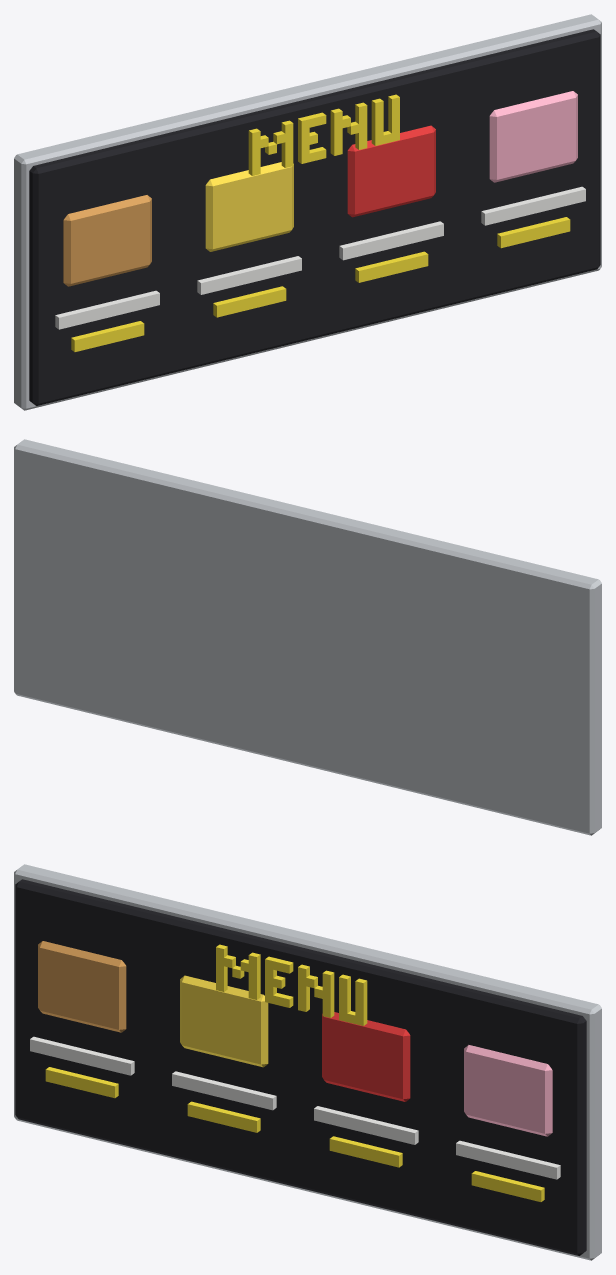
Rendered from MenuBoard.fbx.
The picture shows the model from 3 angles, top to bottom: view 1: azimuth 30°, elevation 25°; view 2: azimuth 150°, elevation 25°; view 3: azimuth 330°, elevation 25°; orthographic projection.
Parts seen in each view (by area): view 1: MenuBoard; view 2: MenuBoard; view 3: MenuBoard.
Part boxes in pixels (<box>): MenuBoard: <box>14,14,601,410</box>; MenuBoard: <box>14,439,601,835</box>; MenuBoard: <box>14,864,601,1260</box>.
Bounding box in the file's own units: 9.2 × 3.8 × 0.65.
Materials: 1 (1 with a texture image).
